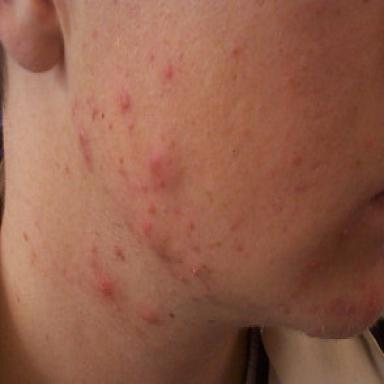acne: (78, 126, 93, 172), (97, 272, 113, 295), (149, 156, 165, 178), (142, 308, 160, 324), (119, 92, 131, 114), (162, 57, 173, 80), (113, 244, 125, 261), (141, 220, 152, 237), (189, 263, 199, 276), (148, 205, 156, 214), (297, 183, 305, 191), (91, 244, 97, 254), (149, 54, 155, 62), (160, 180, 165, 188)
